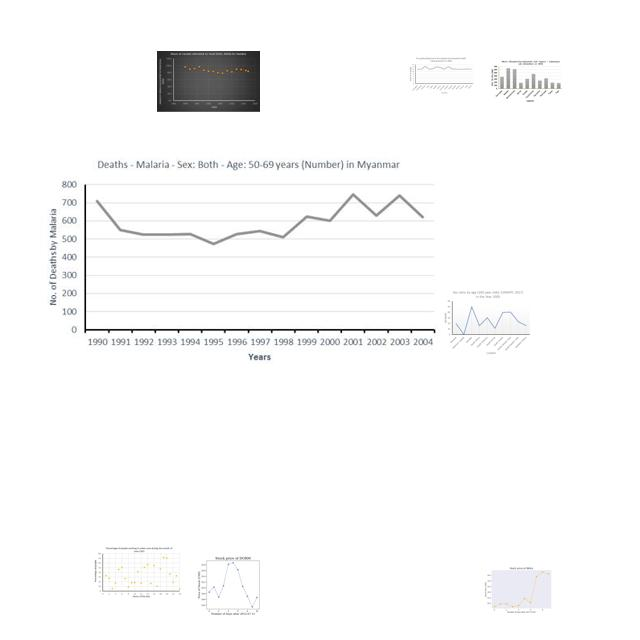Graph: (41, 151, 441, 370), (157, 51, 260, 112), (442, 288, 531, 355), (190, 553, 274, 616), (94, 546, 182, 598), (482, 560, 559, 618), (490, 59, 563, 103), (408, 56, 475, 95)
